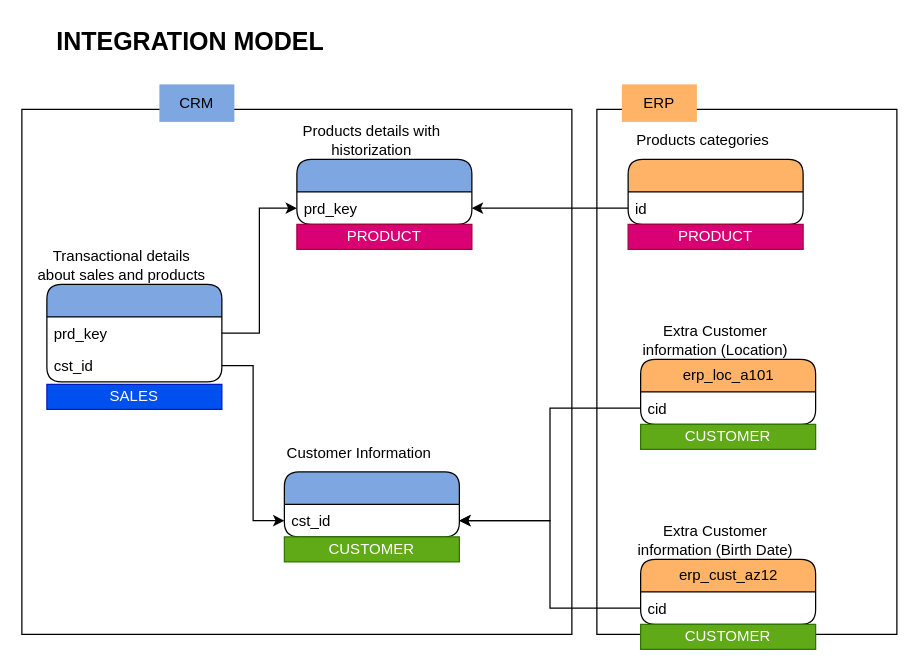
Some shapes in this 919 by 671 pixel diagram are drawn without their labels. The shapes that lost their labels are listed below. From the top down, each one's box as (x1, y1, x2, y2) in pixels, then its label:
(296, 158, 472, 224): crm_prd_info
(627, 158, 803, 224): erp_px_cat_g1v2
(46, 283, 222, 382): crm_sales_details
(283, 471, 459, 537): crm_cust_info
